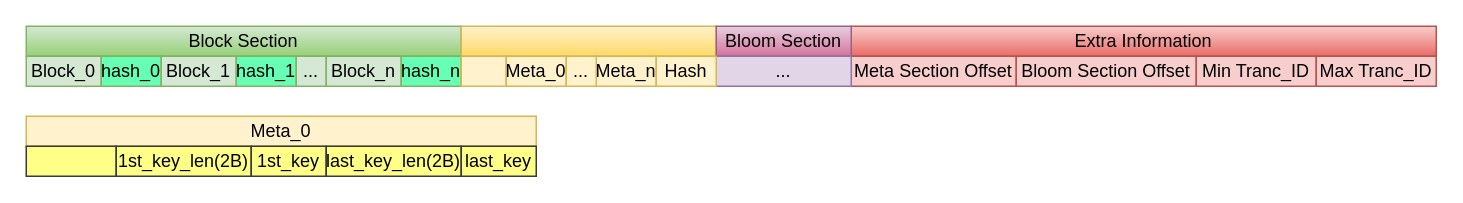
Some shapes in this 1463 by 203 pixel diagram are drawn without their labels. The centre of each missing label's shape, as x and y in pixels:
"Meta Section" goes at (x=588, y=40).
"Num" goes at (x=483, y=70).
"offset(4B)" goes at (x=70, y=160).
